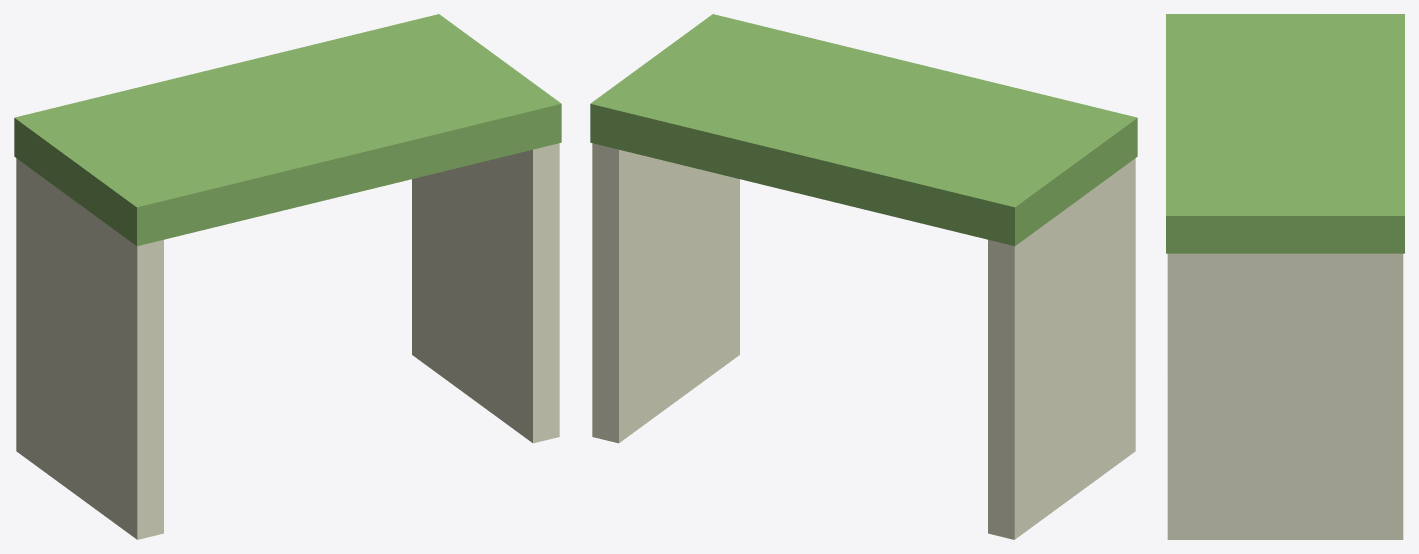
File: desk2_lightgreen.glb
3 renders of one model, left to right at view 1: azimuth 30°, elevation 25°; view 2: azimuth 150°, elevation 25°; view 3: azimuth 270°, elevation 25°, orthographic. The views are drawn at different scales.
Visible parts, largest first — view 1: Box002; view 2: Box002; view 3: Box002.
Part boxes in pixels (bbox=[...]): Box002: bbox=[14, 14, 561, 539]; Box002: bbox=[590, 14, 1137, 539]; Box002: bbox=[1166, 14, 1404, 539].
Bounding box in the file's own units: 0.16 × 0.12 × 0.08.
Materials: 1 (1 with a texture image).
